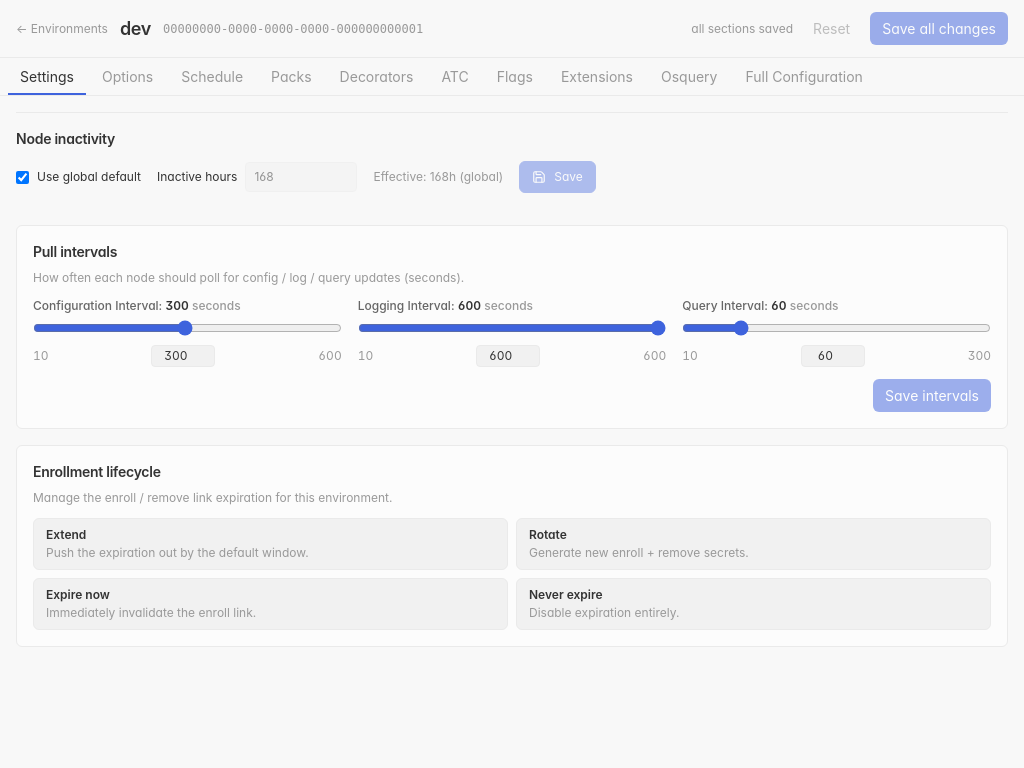
EnvConfigPage › has an Extensions tab that loads the environment assignments only when opened
Click the tab "Extensions" at (597, 76), box [549,58,645,95]
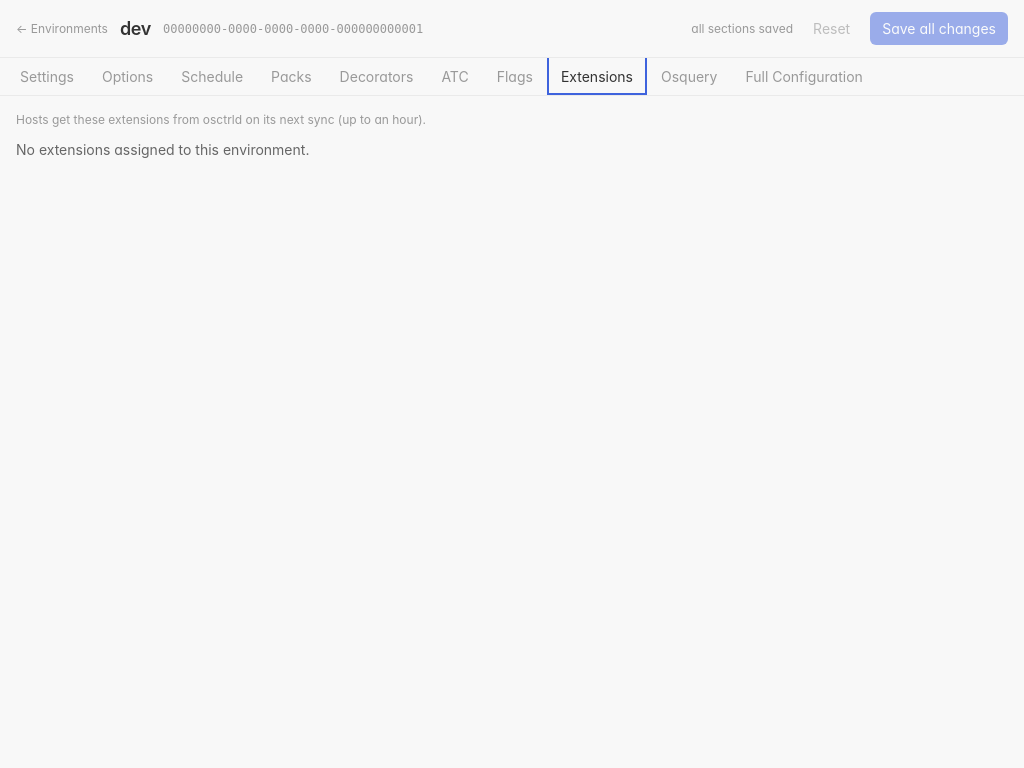
Check: the text "No extensions assigned to this environment." is shown, box [16,141,309,158]
